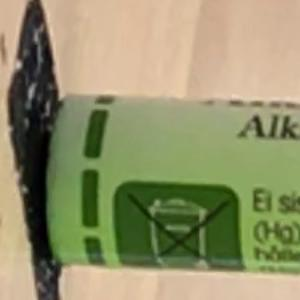keyword: (228, 105, 289, 147)
